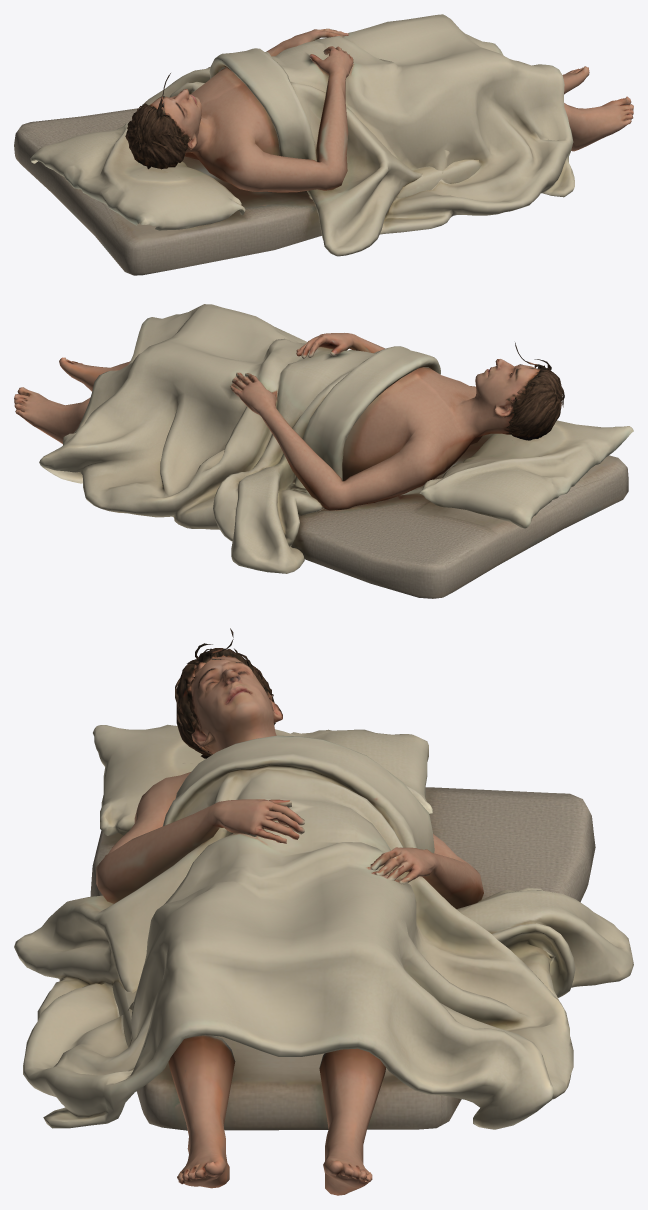
3 renders of one model, top to bottom at view 1: azimuth 30°, elevation 25°; view 2: azimuth 150°, elevation 25°; view 3: azimuth 270°, elevation 25°, orthographic. The views are drawn at different scales.
Parts seen in each view (by area): view 1: tripo_node_1e249b78-7998-4bcc-ba0d-ce0c1e7ca519; view 2: tripo_node_1e249b78-7998-4bcc-ba0d-ce0c1e7ca519; view 3: tripo_node_1e249b78-7998-4bcc-ba0d-ce0c1e7ca519.
Part boxes in pixels (box(x1,y1,x2,y2)): tripo_node_1e249b78-7998-4bcc-ba0d-ce0c1e7ca519: box(14, 14, 633, 275); tripo_node_1e249b78-7998-4bcc-ba0d-ce0c1e7ca519: box(14, 304, 633, 598); tripo_node_1e249b78-7998-4bcc-ba0d-ce0c1e7ca519: box(14, 628, 633, 1195).
Size of the model in its own units: 0.998 by 0.3184 by 0.6621.
Materials: 1 (1 with a texture image).
